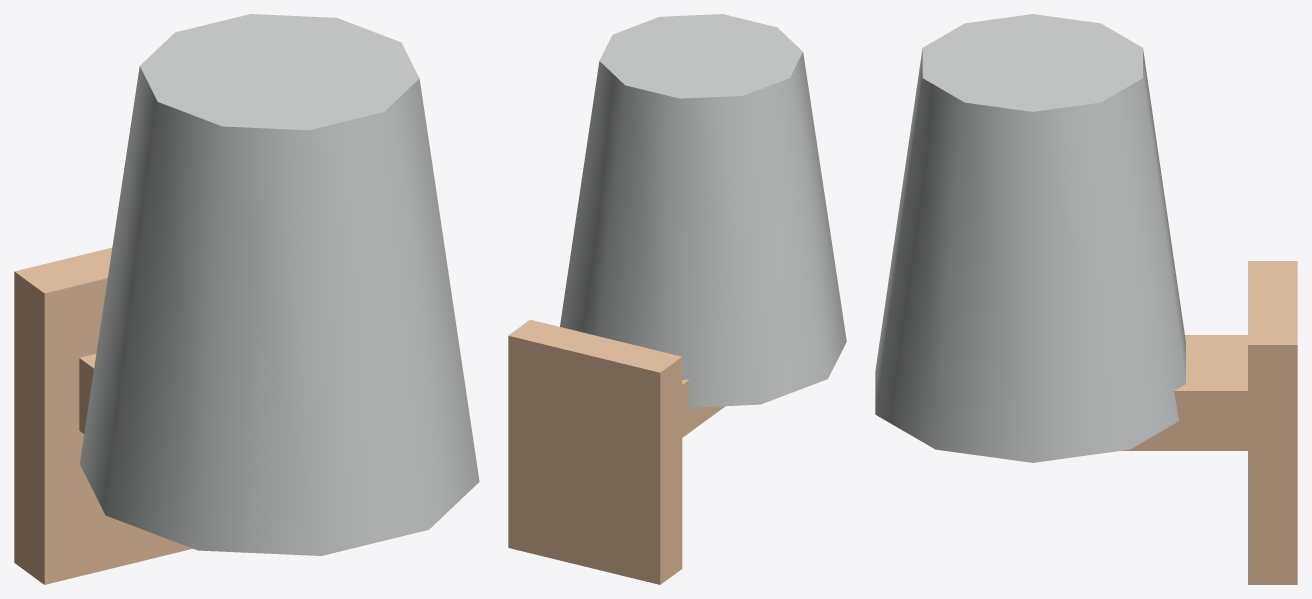
Rendered from sconceBracketShade.glb.
3 views of the same model, side by side, from view 1: azimuth 30°, elevation 25°; view 2: azimuth 150°, elevation 25°; view 3: azimuth 270°, elevation 25° (orthographic). The views are drawn at different scales.
Visible parts, largest first — view 1: sconceBracketShade; view 2: sconceBracketShade; view 3: sconceBracketShade.
Boxes of the visible parts, bbox=[...] form: sconceBracketShade: bbox=[14, 14, 479, 584]; sconceBracketShade: bbox=[508, 14, 846, 584]; sconceBracketShade: bbox=[875, 14, 1297, 584].
Bounding box in the file's own units: 0.1 × 0.16 × 0.1276.
